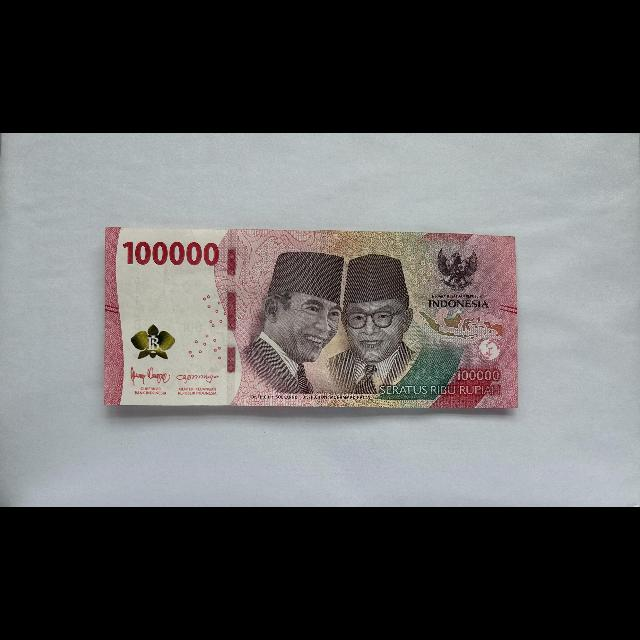Asli-100k: (103, 226, 520, 410)
Tinta-Asli-100k: (130, 324, 176, 360)
